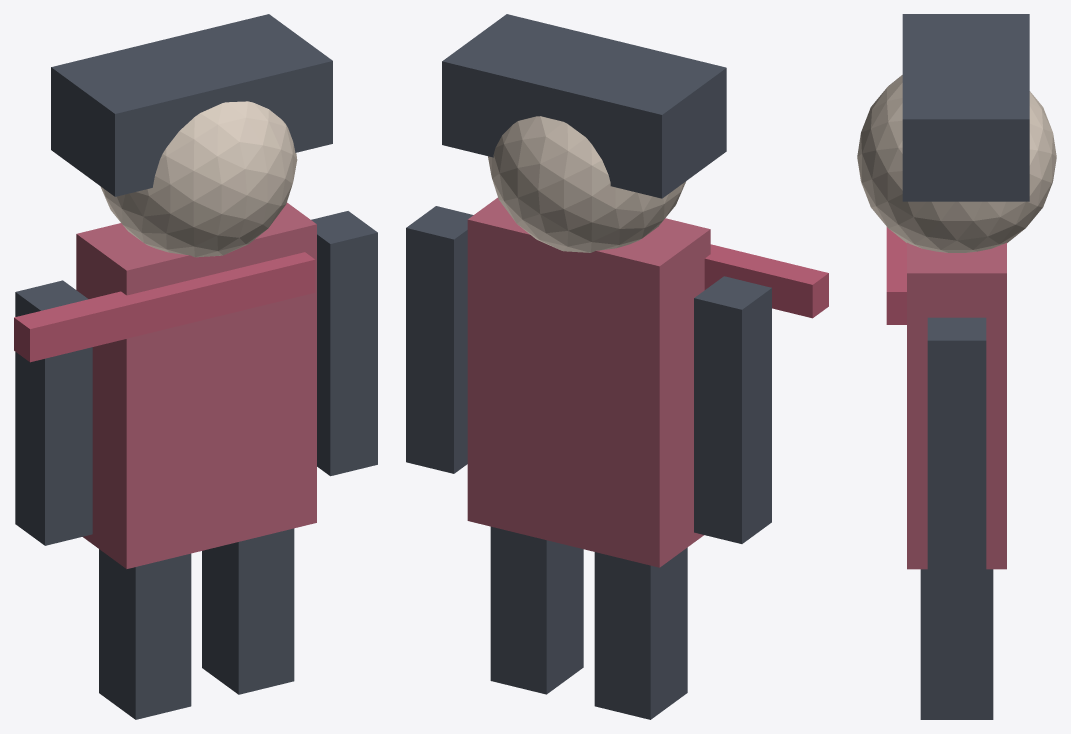
The model's file is threadbound_actor.glb.
3 renders of one model, left to right at view 1: azimuth 30°, elevation 25°; view 2: azimuth 150°, elevation 25°; view 3: azimuth 270°, elevation 25°, orthographic.
Parts seen in each view (by area): view 1: torso, hood, head, arm_l, arm_r, leg_l, scarf, leg_r; view 2: torso, hood, arm_l, arm_r, head, leg_l, leg_r, scarf; view 3: hood, torso, arm_r, head, leg_r, scarf.
Part boxes in pixels (box(x1,y1,x2,y2)): torso: box(76, 202, 316, 568); hood: box(51, 14, 332, 196); head: box(100, 101, 297, 257); arm_l: box(15, 280, 92, 545); arm_r: box(311, 211, 377, 476); leg_l: box(99, 549, 191, 719); scarf: box(14, 252, 315, 362); leg_r: box(202, 528, 294, 694); torso: box(467, 197, 710, 567); hood: box(442, 14, 726, 198); arm_l: box(694, 276, 771, 543); arm_r: box(406, 206, 473, 473); head: box(488, 116, 686, 252); leg_l: box(594, 547, 687, 719); leg_r: box(490, 526, 583, 694); scarf: box(704, 244, 828, 318); hood: box(902, 14, 1029, 201); torso: box(907, 242, 1006, 569); arm_r: box(927, 317, 986, 570); head: box(857, 75, 1056, 252); leg_r: box(920, 569, 993, 719); scarf: box(886, 227, 906, 324).
Bounding box in the file's own units: 0.93 × 1.5 × 0.44.
